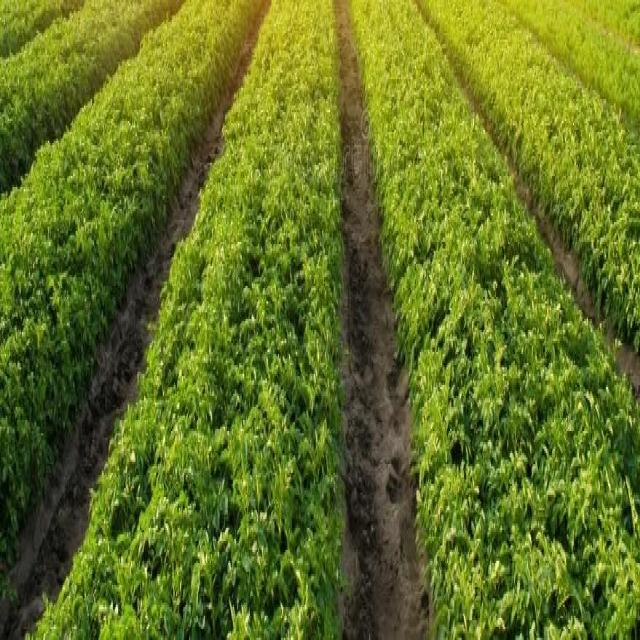row: (0, 2, 270, 640), (335, 2, 436, 640)
